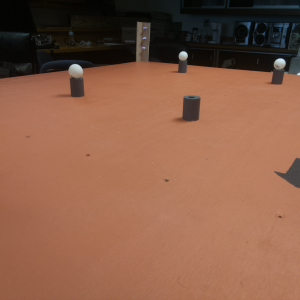corner: (135, 20, 150, 63)
obstacle: (181, 95, 204, 123), (68, 63, 86, 98), (270, 58, 287, 85), (177, 49, 189, 75)
start: (272, 157, 300, 189)
